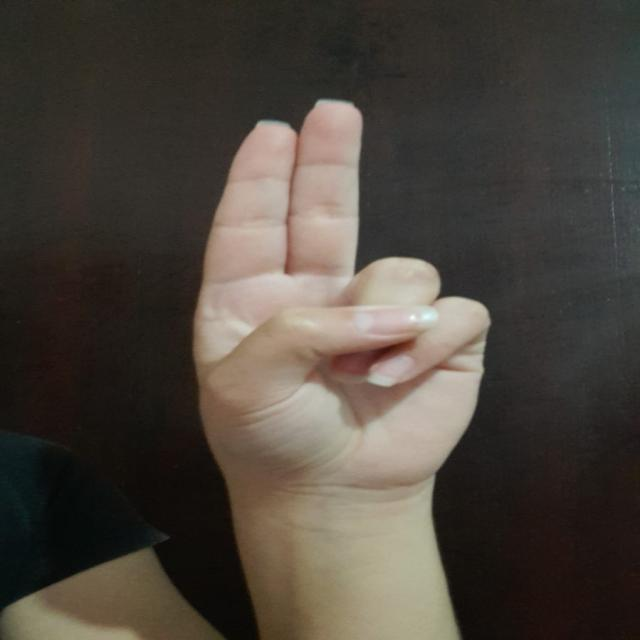U: (182, 88, 506, 494)
